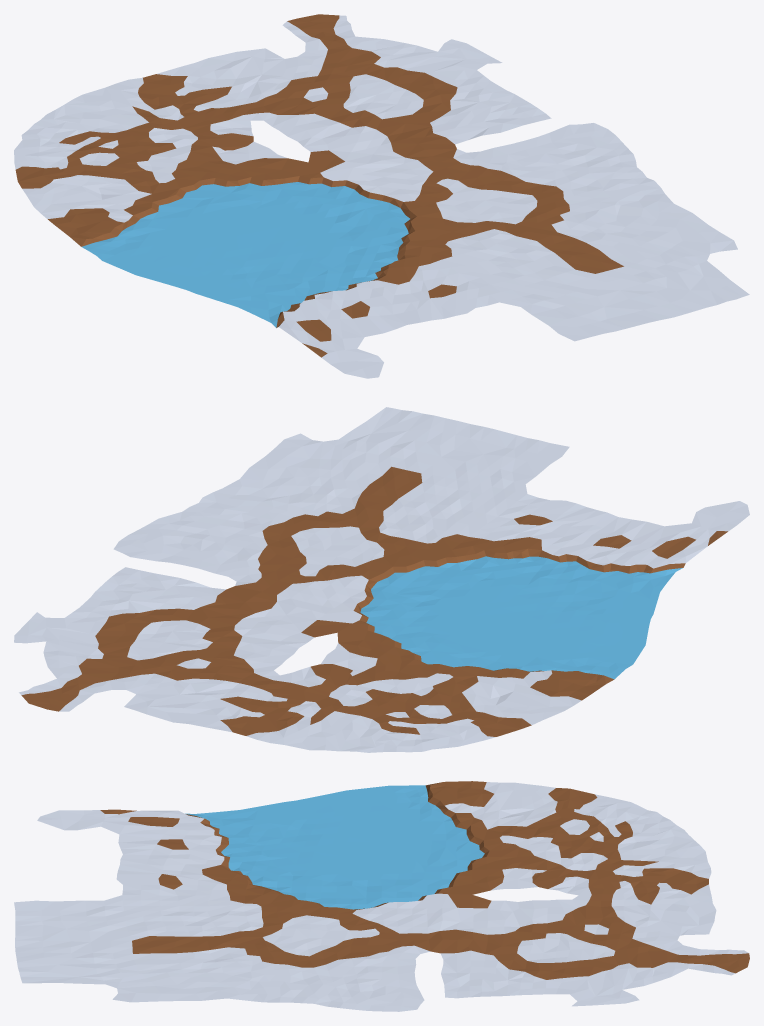
Rendered from Ground_Winter_02.fbx.
3 views of the same model, one above another, from view 1: azimuth 30°, elevation 25°; view 2: azimuth 150°, elevation 25°; view 3: azimuth 270°, elevation 25° (orthographic). The views are drawn at different scales.
Parts seen in each view (by area): view 1: Ground_Winter; view 2: Ground_Winter; view 3: Ground_Winter.
Boxes of the visible parts, <box> form: Ground_Winter: <box>14,14,749,378</box>; Ground_Winter: <box>14,407,749,752</box>; Ground_Winter: <box>14,781,749,1011</box>.
Size of the model in its own units: 198 by 1.78 by 268.
